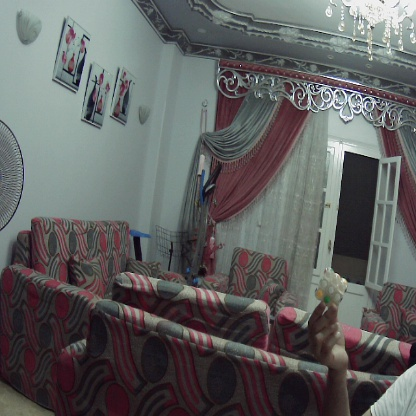Rubix Cube: (315, 266, 347, 311)
